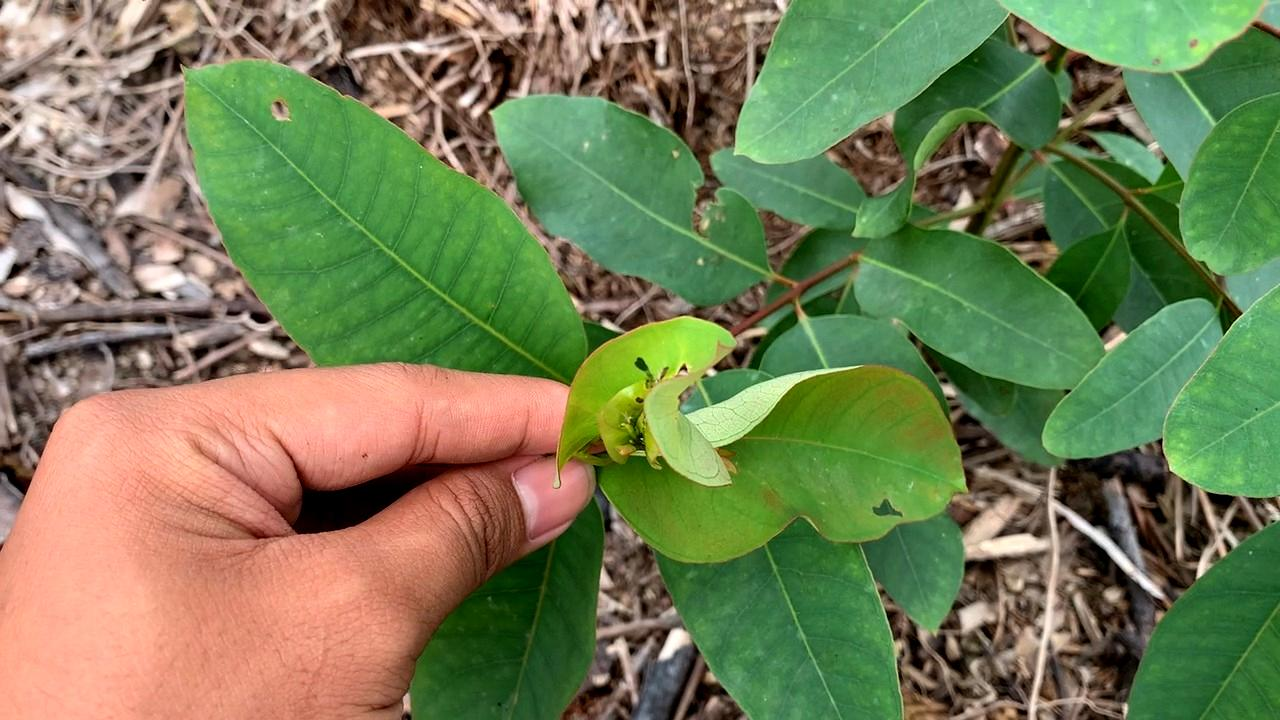Leaf Roller - Leaf: (552, 319, 738, 489)
